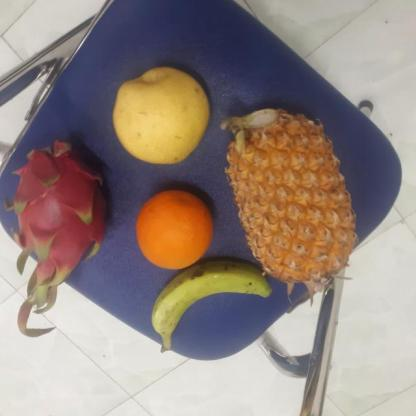banana: (154, 262, 270, 352)
orange: (134, 188, 218, 268)
pear: (116, 68, 220, 164)
pineapple: (225, 105, 360, 282)
pitaya: (3, 136, 116, 284)
